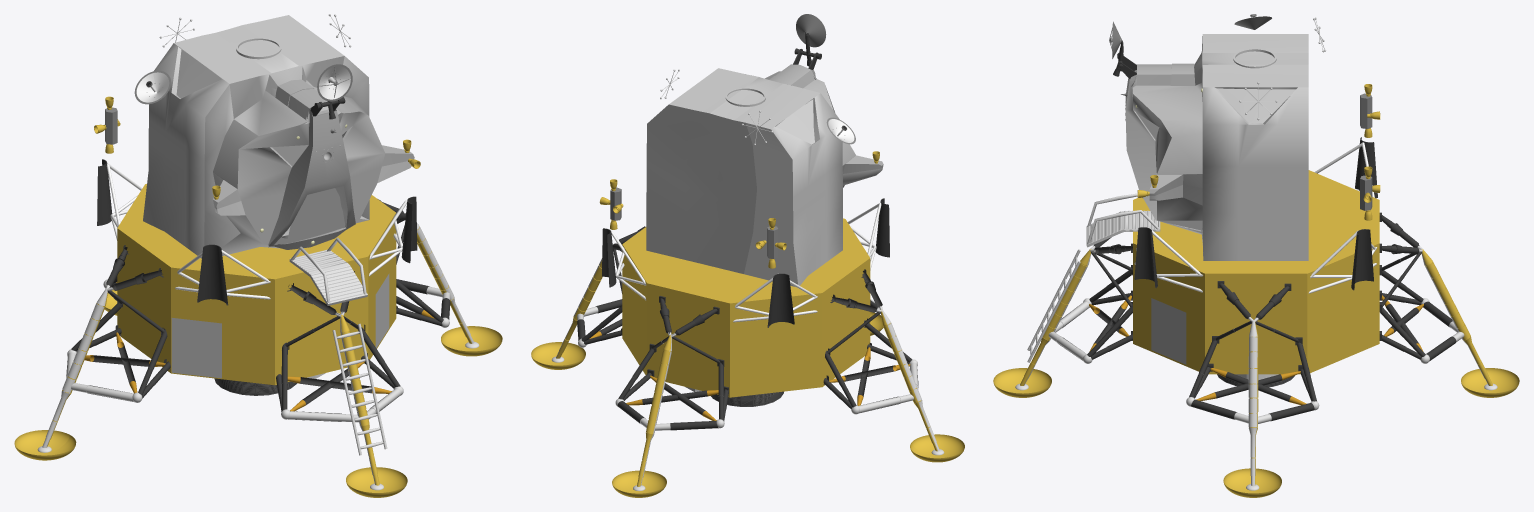
File: flatfrontpanel.fbx
The picture shows the model from 3 angles, left to right: view 1: azimuth 30°, elevation 25°; view 2: azimuth 150°, elevation 25°; view 3: azimuth 270°, elevation 25°; orthographic projection. The views are drawn at different scales.
Parts seen in each view (by area): view 1: polySurfac, pCylinder1, group31 19, pPlane1, group31 15, pCube3, group31 16, polySurfa1, group75 pP, group31 g6, group31 10, pCylinder3 (+12 smaller); view 2: polySurfac, pCylinder1, group31 19, group31 15, group31 16, group75 11, group31 g8, group31 14, group31 g6, group31 g7, pCylinder3, group51 g5 (+8 smaller); view 3: polySurfac, pCylinder1, group31 19, group31 15, group31 16, pPlane2, pCube3, group31 g8, group31 g7, group31 g6, pCylinder3, group31 14 (+9 smaller).
Boxes of the visible parts, x1=… form: polySurfac: x1=143, y1=15, x2=414, y2=258; pCylinder1: x1=117, y1=184, x2=396, y2=385; group31 19: x1=14, y1=289, x2=502, y2=497; pPlane1: x1=171, y1=318, x2=221, y2=378; group31 15: x1=42, y1=223, x2=474, y2=484; pCube3: x1=289, y1=249, x2=367, y2=305; group31 16: x1=47, y1=225, x2=471, y2=485; polySurfa1: x1=332, y1=323, x2=387, y2=455; group75 pP: x1=197, y1=244, x2=228, y2=305; group31 g6: x1=71, y1=292, x2=450, y2=422; group31 10: x1=114, y1=276, x2=443, y2=410; pCylinder3: x1=116, y1=282, x2=434, y2=411; polySurfac: x1=646, y1=64, x2=883, y2=286; pCylinder1: x1=622, y1=218, x2=870, y2=397; group31 19: x1=531, y1=312, x2=964, y2=497; group31 15: x1=556, y1=244, x2=939, y2=486; group31 16: x1=556, y1=260, x2=936, y2=486; group75 11: x1=767, y1=273, x2=794, y2=327; group31 g8: x1=589, y1=319, x2=870, y2=405; group31 14: x1=581, y1=306, x2=856, y2=407; group31 g6: x1=583, y1=299, x2=918, y2=430; group31 g7: x1=577, y1=313, x2=913, y2=427; pCylinder3: x1=650, y1=364, x2=910, y2=420; group51 g5: x1=796, y1=14, x2=826, y2=47; polySurfac: x1=1125, y1=34, x2=1308, y2=260; pCylinder1: x1=1133, y1=170, x2=1379, y2=374; group31 19: x1=993, y1=368, x2=1519, y2=497; group31 15: x1=1020, y1=249, x2=1492, y2=486; group31 16: x1=1020, y1=251, x2=1492, y2=475; pPlane2: x1=1151, y1=298, x2=1186, y2=364; pCube3: x1=1086, y1=210, x2=1160, y2=247; group31 g8: x1=1089, y1=295, x2=1423, y2=405; group31 g7: x1=1048, y1=331, x2=1464, y2=423; group31 g6: x1=1055, y1=301, x2=1457, y2=423; pCylinder3: x1=1089, y1=304, x2=1423, y2=400; group31 14: x1=1087, y1=305, x2=1425, y2=401.
Size of the model in its own units: 16.33 by 12.73 by 16.32.
